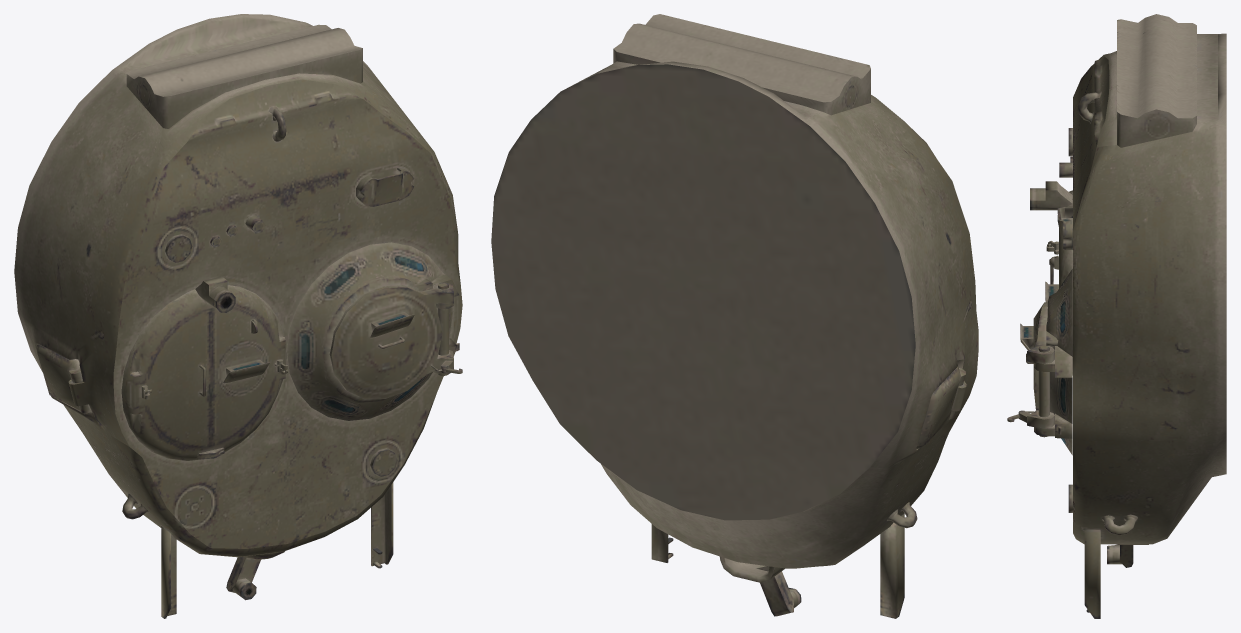
Rendered from Turret_02.glb.
3 views of the same model, side by side, from view 1: azimuth 30°, elevation 25°; view 2: azimuth 150°, elevation 25°; view 3: azimuth 270°, elevation 25° (orthographic). The views are drawn at different scales.
Visible parts, largest first — view 1: set_0_group_0; view 2: set_0_group_0; view 3: set_0_group_0.
Boxes of the visible parts, box(x1,y1,x2,y2) form: set_0_group_0: box(14, 14, 462, 618); set_0_group_0: box(491, 14, 978, 618); set_0_group_0: box(1007, 14, 1226, 618).
Bounding box in the file's own units: 2.07 × 2.72 × 1.03.
1 material, 1 textured.
